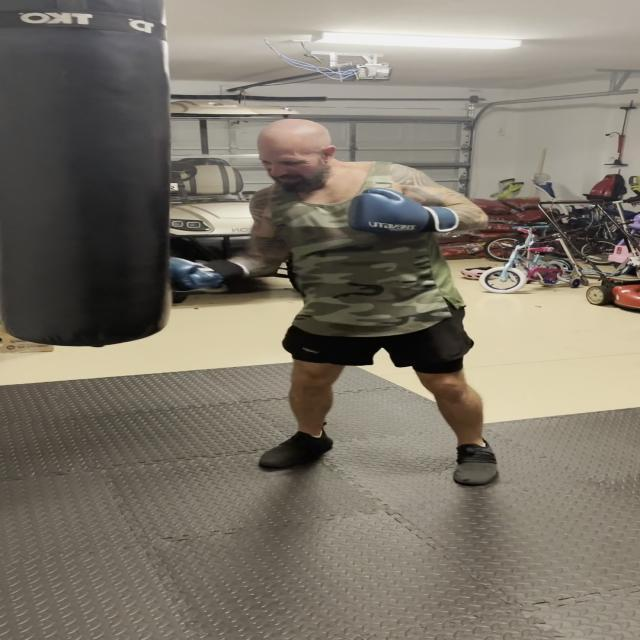bag: (0, 3, 171, 350)
uppercut: (142, 121, 513, 309)
